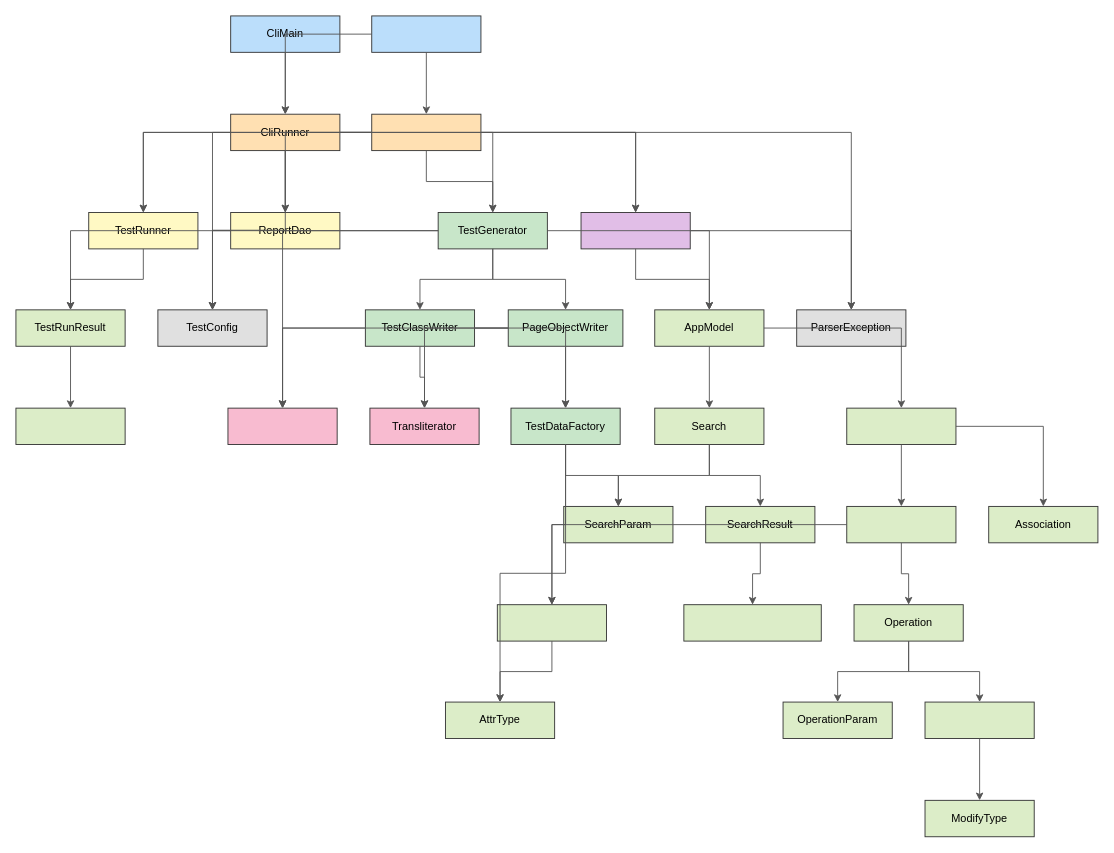
This 1114x853 diagram has some shape labels left out. The centre of each missing label's shape, as x and y in pixels:
"App" belongs at (x=426, y=33).
"EntityObject" belongs at (x=901, y=426).
"JavaFileWriter" belongs at (x=282, y=426).
"MainController" belongs at (x=426, y=132).
"Modifier" belongs at (x=979, y=719).
"Property" belongs at (x=551, y=622).
"PropertyGroup" belongs at (x=901, y=524).
"SearchResultProperty" belongs at (x=752, y=622).
"TestCaseResult" belongs at (x=70, y=426).
"XmlModelParser" belongs at (x=635, y=230).
